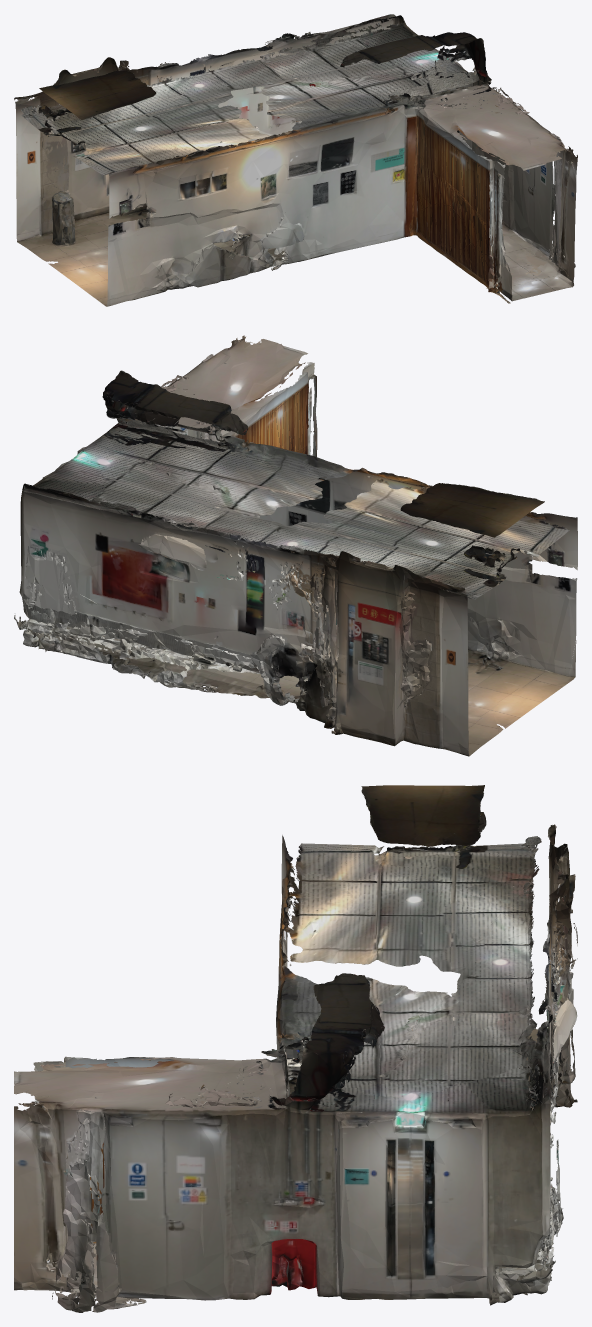
File: Lg_corner_2_LOW_POLY.fbx
3 views of the same model, one above another, from view 1: azimuth 30°, elevation 25°; view 2: azimuth 150°, elevation 25°; view 3: azimuth 270°, elevation 25° (orthographic). The views are drawn at different scales.
Visible parts, largest first — view 1: Lg_corner_2_LOW_POLY; view 2: Lg_corner_2_LOW_POLY; view 3: Lg_corner_2_LOW_POLY.
Boxes of the visible parts, x1=… form: Lg_corner_2_LOW_POLY: x1=14, y1=14, x2=577, y2=306; Lg_corner_2_LOW_POLY: x1=14, y1=335, x2=577, y2=756; Lg_corner_2_LOW_POLY: x1=14, y1=785, x2=577, y2=1312.
Size of the model in its own units: 769 by 341 by 665.
Materials: 1 (1 with a texture image).
